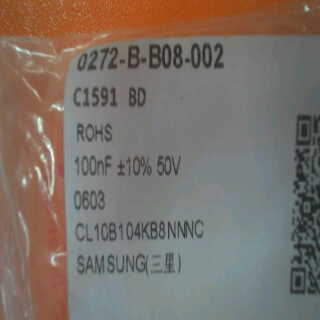100nF: (68, 151, 115, 179)
